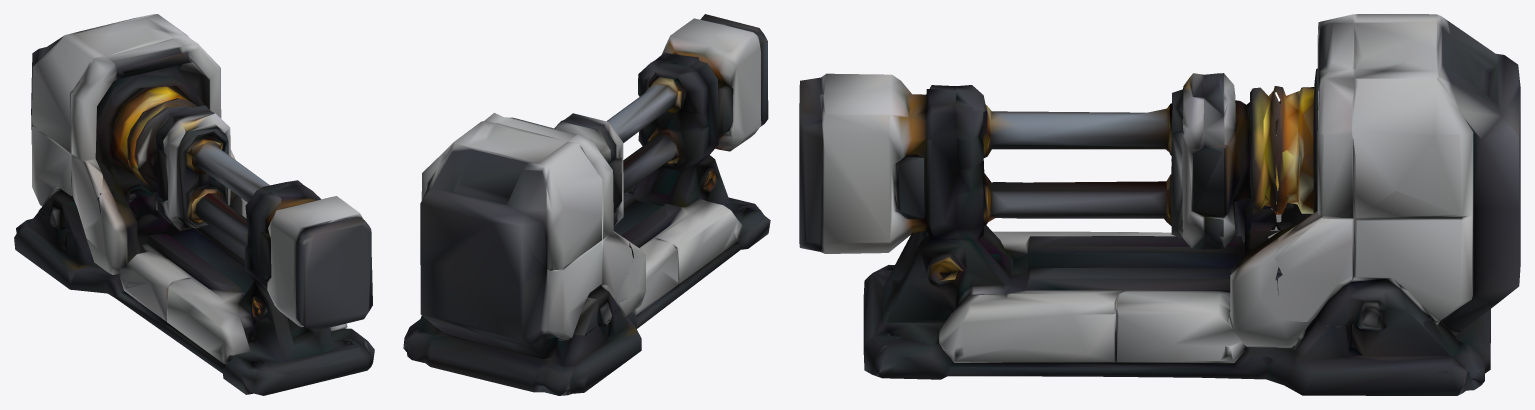
The model's file is model-32-spring-ram.glb.
The picture shows the model from 3 angles, left to right: view 1: azimuth 30°, elevation 25°; view 2: azimuth 150°, elevation 25°; view 3: azimuth 270°, elevation 25°; orthographic projection. The views are drawn at different scales.
Parts seen in each view (by area): view 1: Frame, Moving; view 2: Frame, Moving; view 3: Frame, Moving.
Boxes of the visible parts, x1=… form: Frame: x1=14, y1=98, x2=374, y2=395; Moving: x1=31, y1=14, x2=235, y2=249; Frame: x1=403, y1=14, x2=770, y2=395; Moving: x1=420, y1=113, x2=633, y2=347; Frame: x1=799, y1=73, x2=1494, y2=395; Moving: x1=1271, y1=14, x2=1520, y2=327.
Bounding box in the file's own units: 0.4525 × 0.5048 × 1.13.
